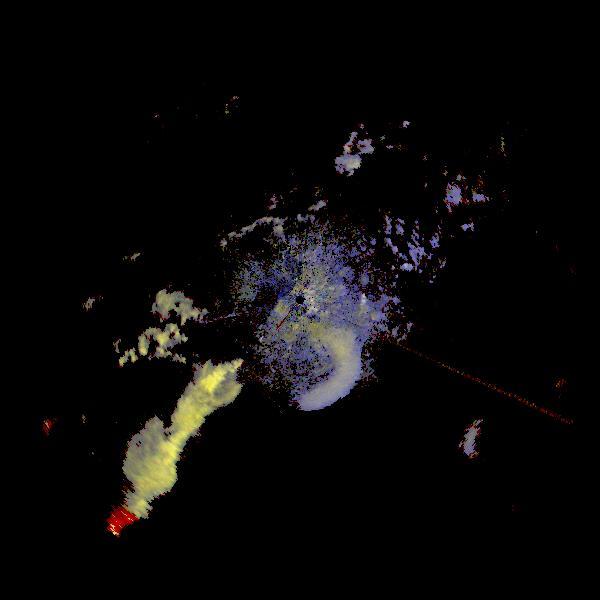roost: (248, 299, 371, 422), (461, 416, 515, 470)
